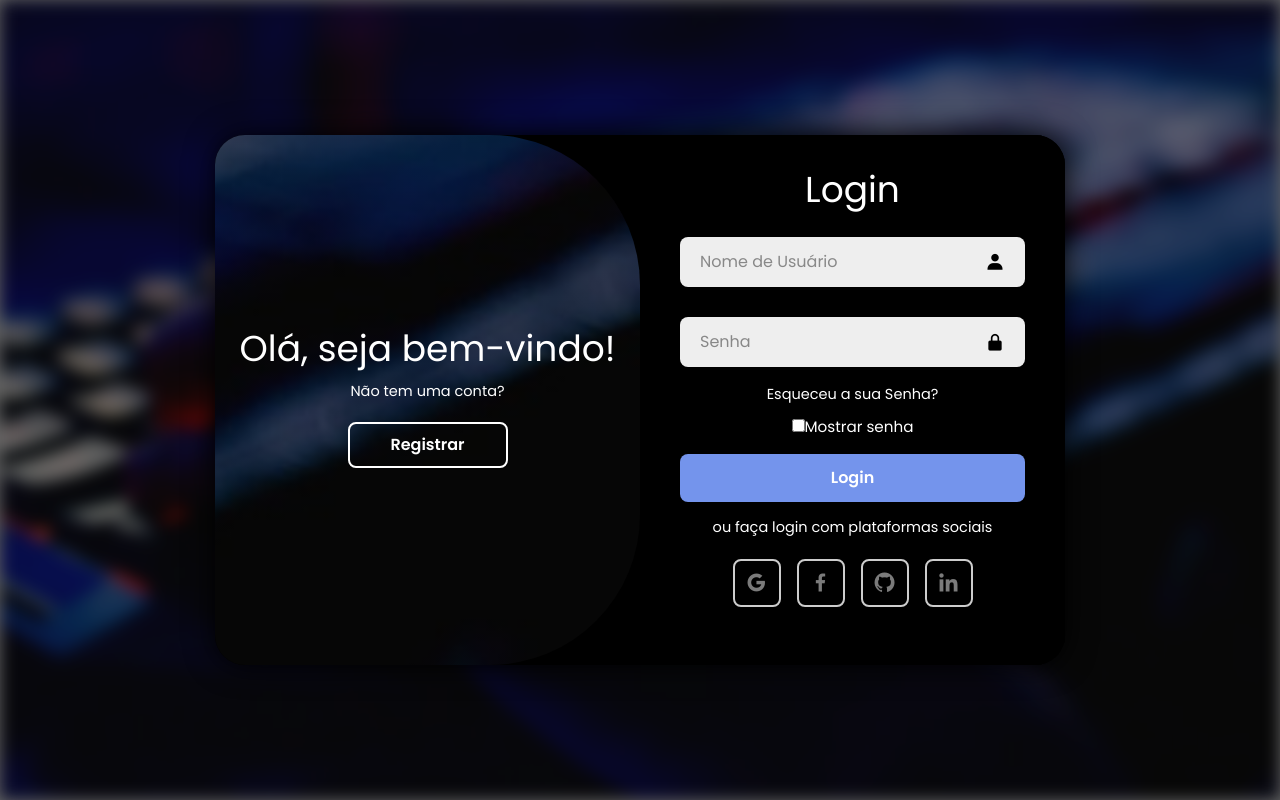
it: Tela de Login e Registro › Deve dar erro ao tentar fazer login com usuário não cadastrado
The width and height of the screenshot is (1280, 800).
Type "usuario_inexistente" into the field with test id "login-username" at x=853, y=262, box [680, 237, 1025, 287]
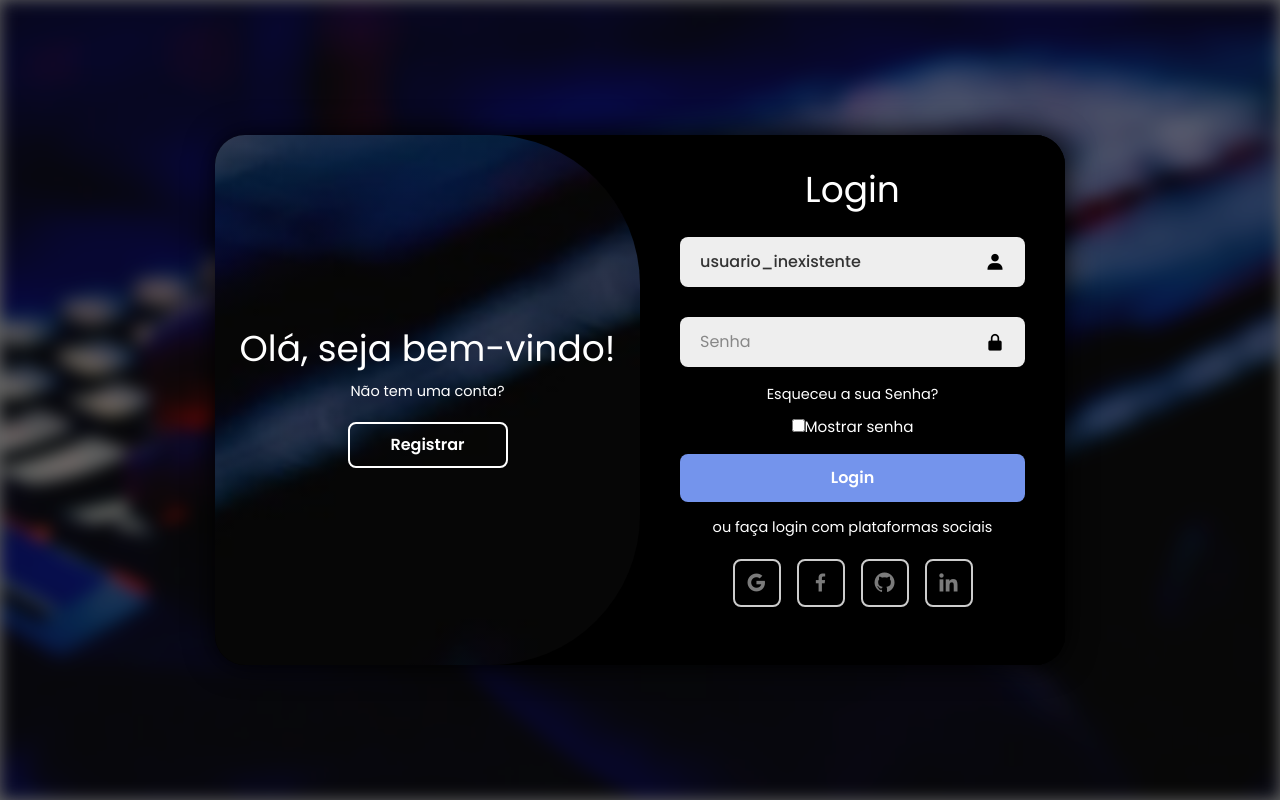
Type "123456" into the password field with test id "login-password" at x=853, y=342, box [680, 317, 1025, 367]
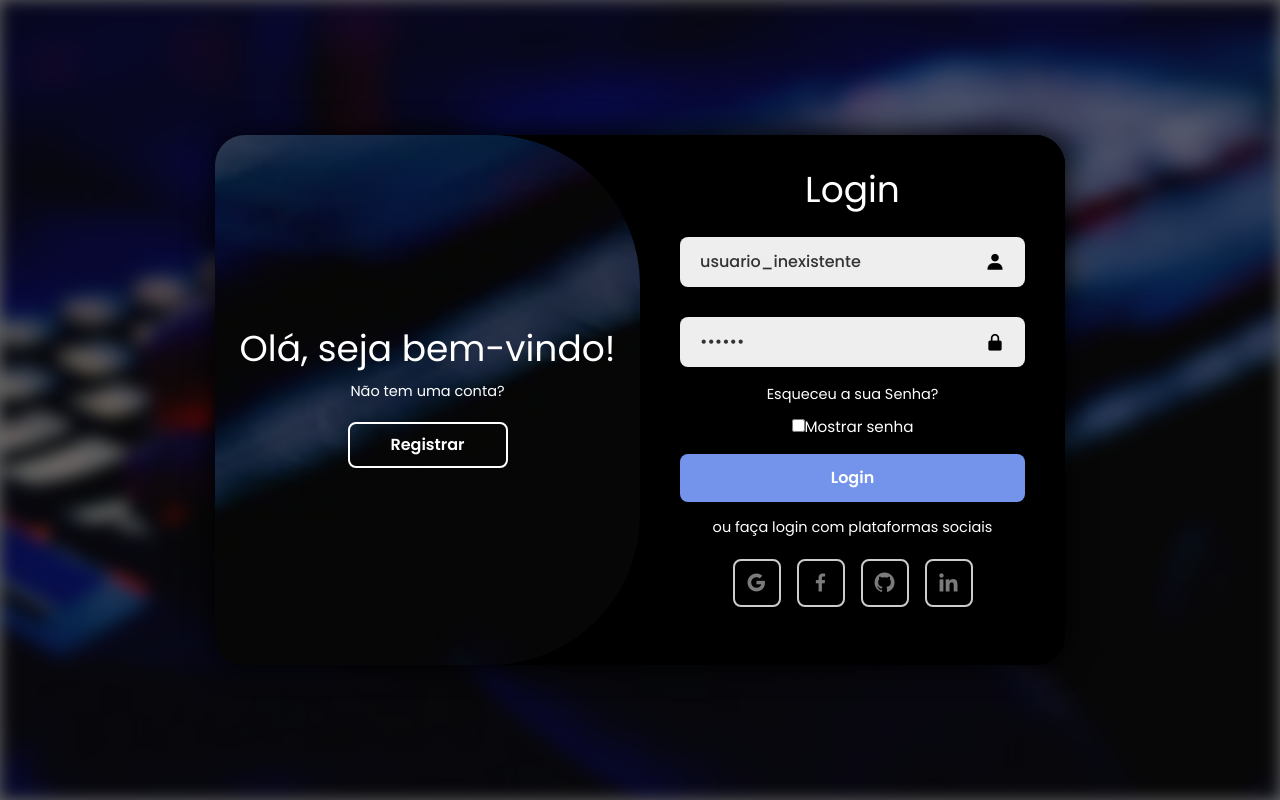
Click the button with test id "login-button" at x=853, y=478, box [680, 454, 1025, 502]
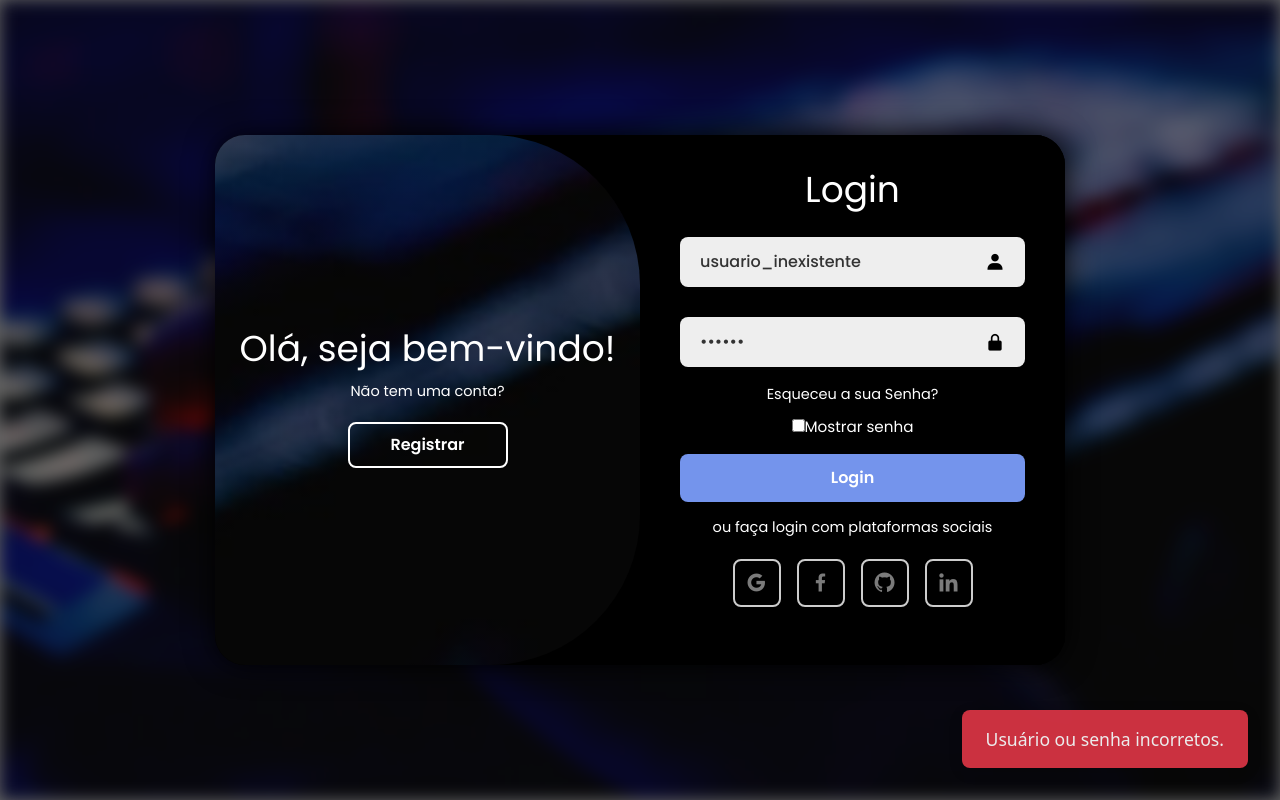
Expected: the text "Usuário ou senha incorretos." is shown, [962, 710, 1248, 768]
